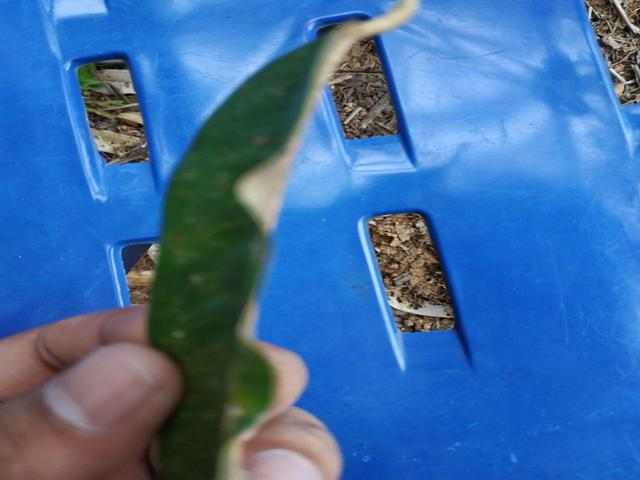blight spot: (211, 390, 241, 439)
